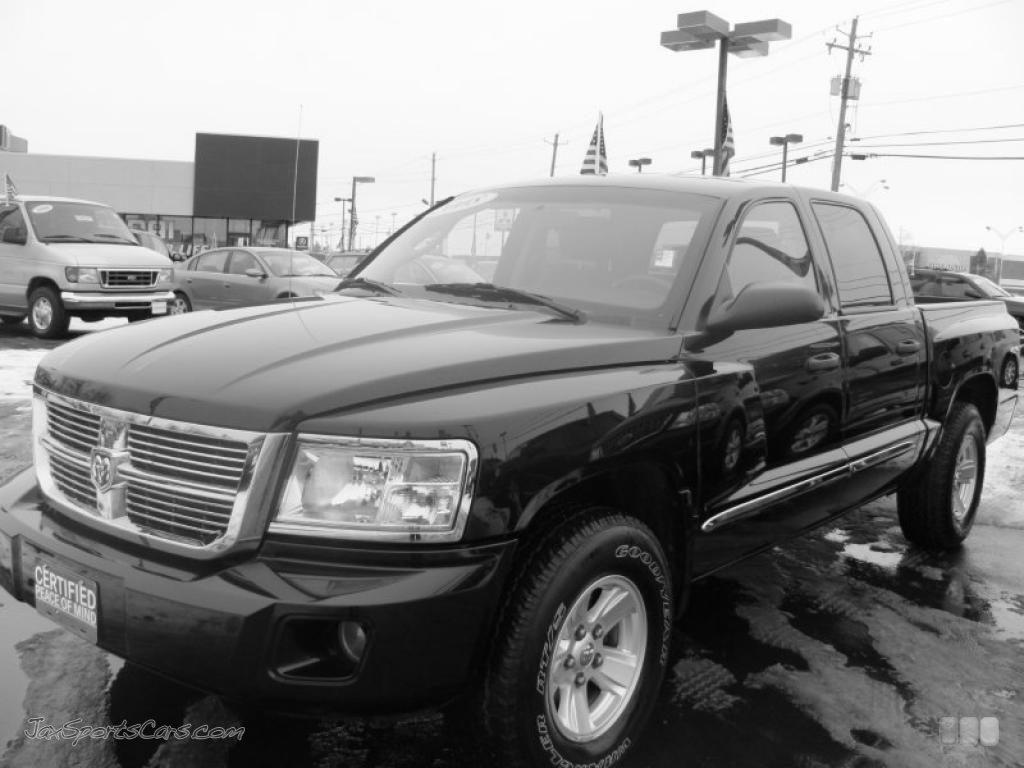car: (9, 178, 1009, 765)
